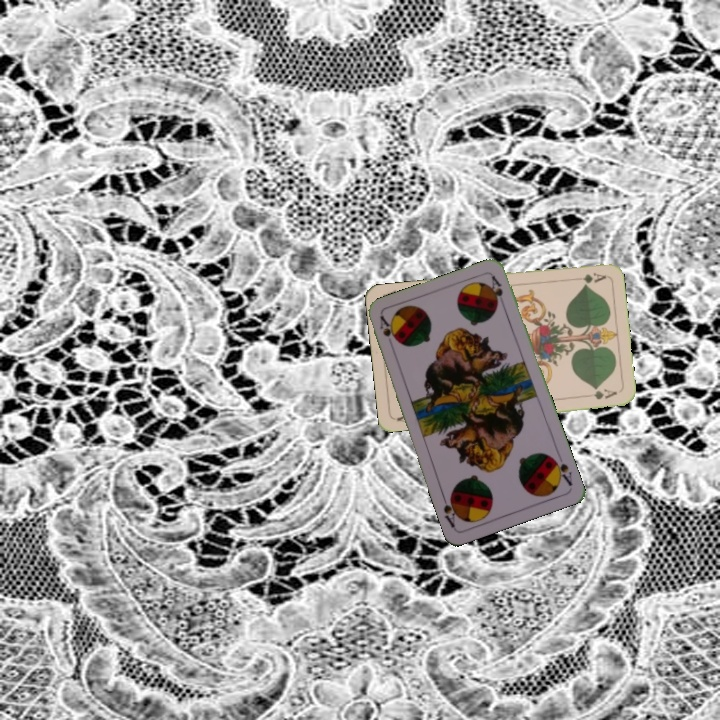GA: (567, 269, 608, 285)
SA: (548, 453, 575, 489), (376, 312, 398, 344)
